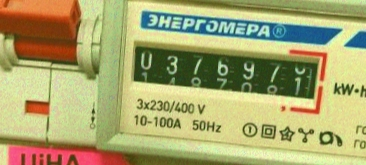0: (137, 47, 155, 69)
1: (292, 74, 304, 95)
3: (164, 51, 180, 75)
6: (216, 53, 231, 75)
7: (190, 50, 205, 75), (267, 58, 282, 82)
9: (241, 56, 256, 79)
screen: (123, 32, 331, 116)
